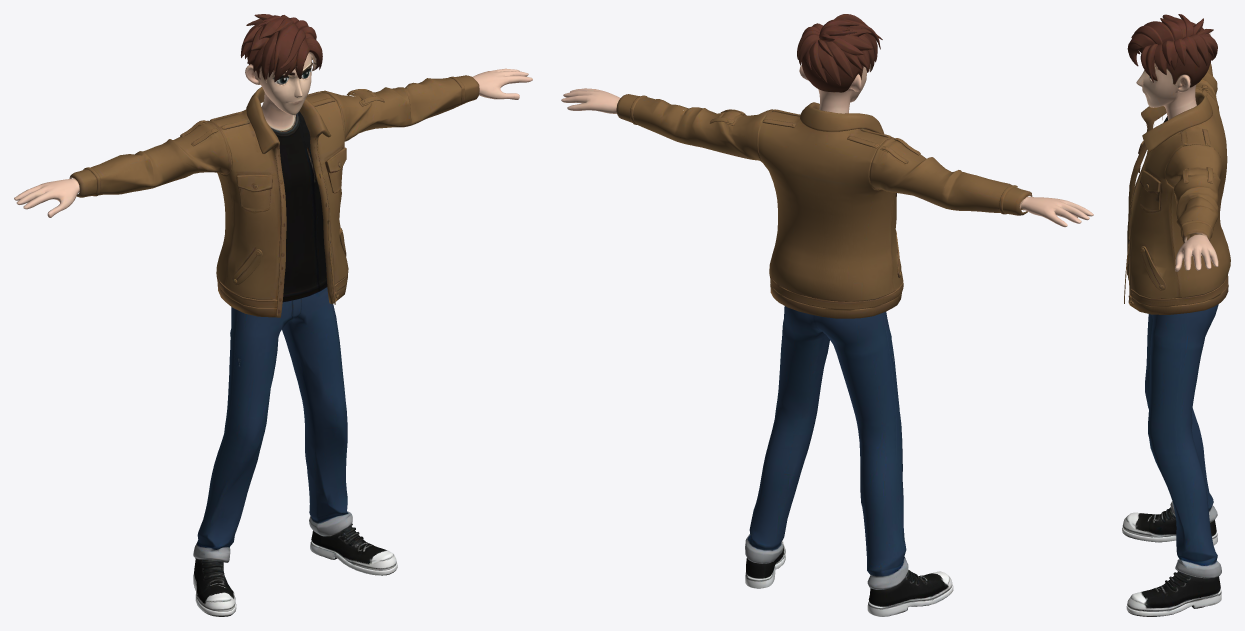
File: toonstudio_male_hero.glb
3 renders of one model, left to right at view 1: azimuth 30°, elevation 25°; view 2: azimuth 150°, elevation 25°; view 3: azimuth 270°, elevation 25°, orthographic. The views are drawn at different scales.
Visible parts, largest first — view 1: tripo_7501cf03_9483_44c5_8ef0_33a65dd5d05a; view 2: tripo_7501cf03_9483_44c5_8ef0_33a65dd5d05a; view 3: tripo_7501cf03_9483_44c5_8ef0_33a65dd5d05a.
Part boxes in pixels (bbox=[...]): tripo_7501cf03_9483_44c5_8ef0_33a65dd5d05a: bbox=[14, 14, 532, 616]; tripo_7501cf03_9483_44c5_8ef0_33a65dd5d05a: bbox=[561, 14, 1093, 616]; tripo_7501cf03_9483_44c5_8ef0_33a65dd5d05a: bbox=[1122, 14, 1230, 616].
Bounding box in the file's own units: 1.69 × 1.75 × 0.3138.
1 material, 1 textured.
